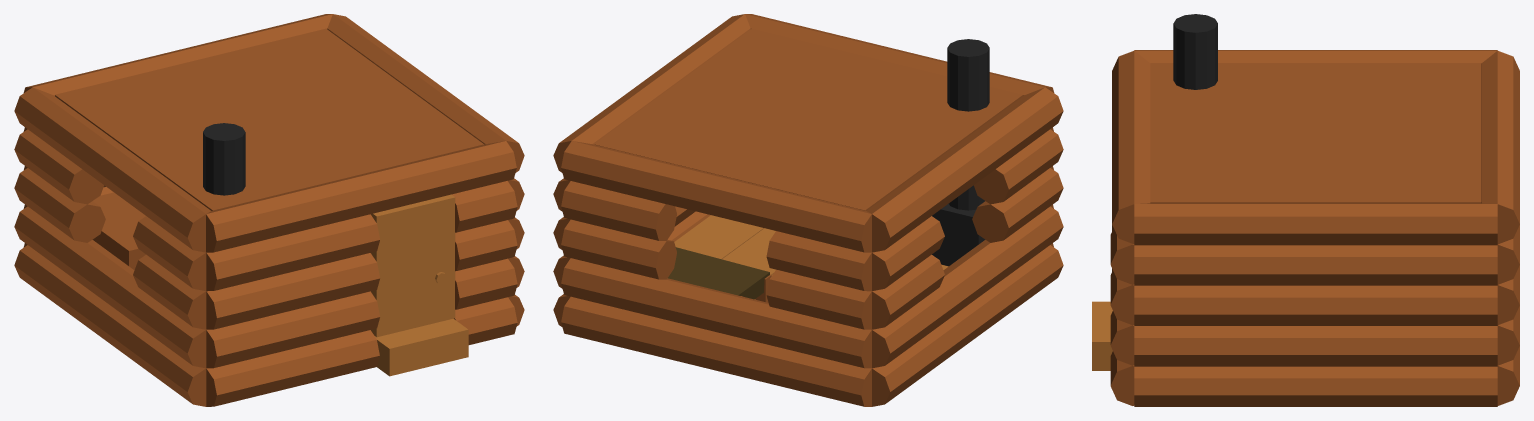
Rendered from Cottage.fbx.
3 renders of one model, left to right at view 1: azimuth 30°, elevation 25°; view 2: azimuth 150°, elevation 25°; view 3: azimuth 270°, elevation 25°, orthographic. The views are drawn at different scales.
Visible parts, largest first — view 1: Cottage, Door, Fireplace, Workbench; view 2: Cottage, Fireplace, Bed; view 3: Cottage, Fireplace.
Part boxes in pixels (x1,y1,x2,y2): Cottage: (14,14,524,406); Door: (371,194,455,337); Fireplace: (203,123,245,195); Workbench: (92,192,145,269); Cottage: (553,14,1063,406); Fireplace: (932,39,989,266); Bed: (668,247,771,302); Cottage: (1092,50,1519,406); Fireplace: (1173,14,1217,89).
Bounding box in the file's own units: 896 × 615 × 940.
